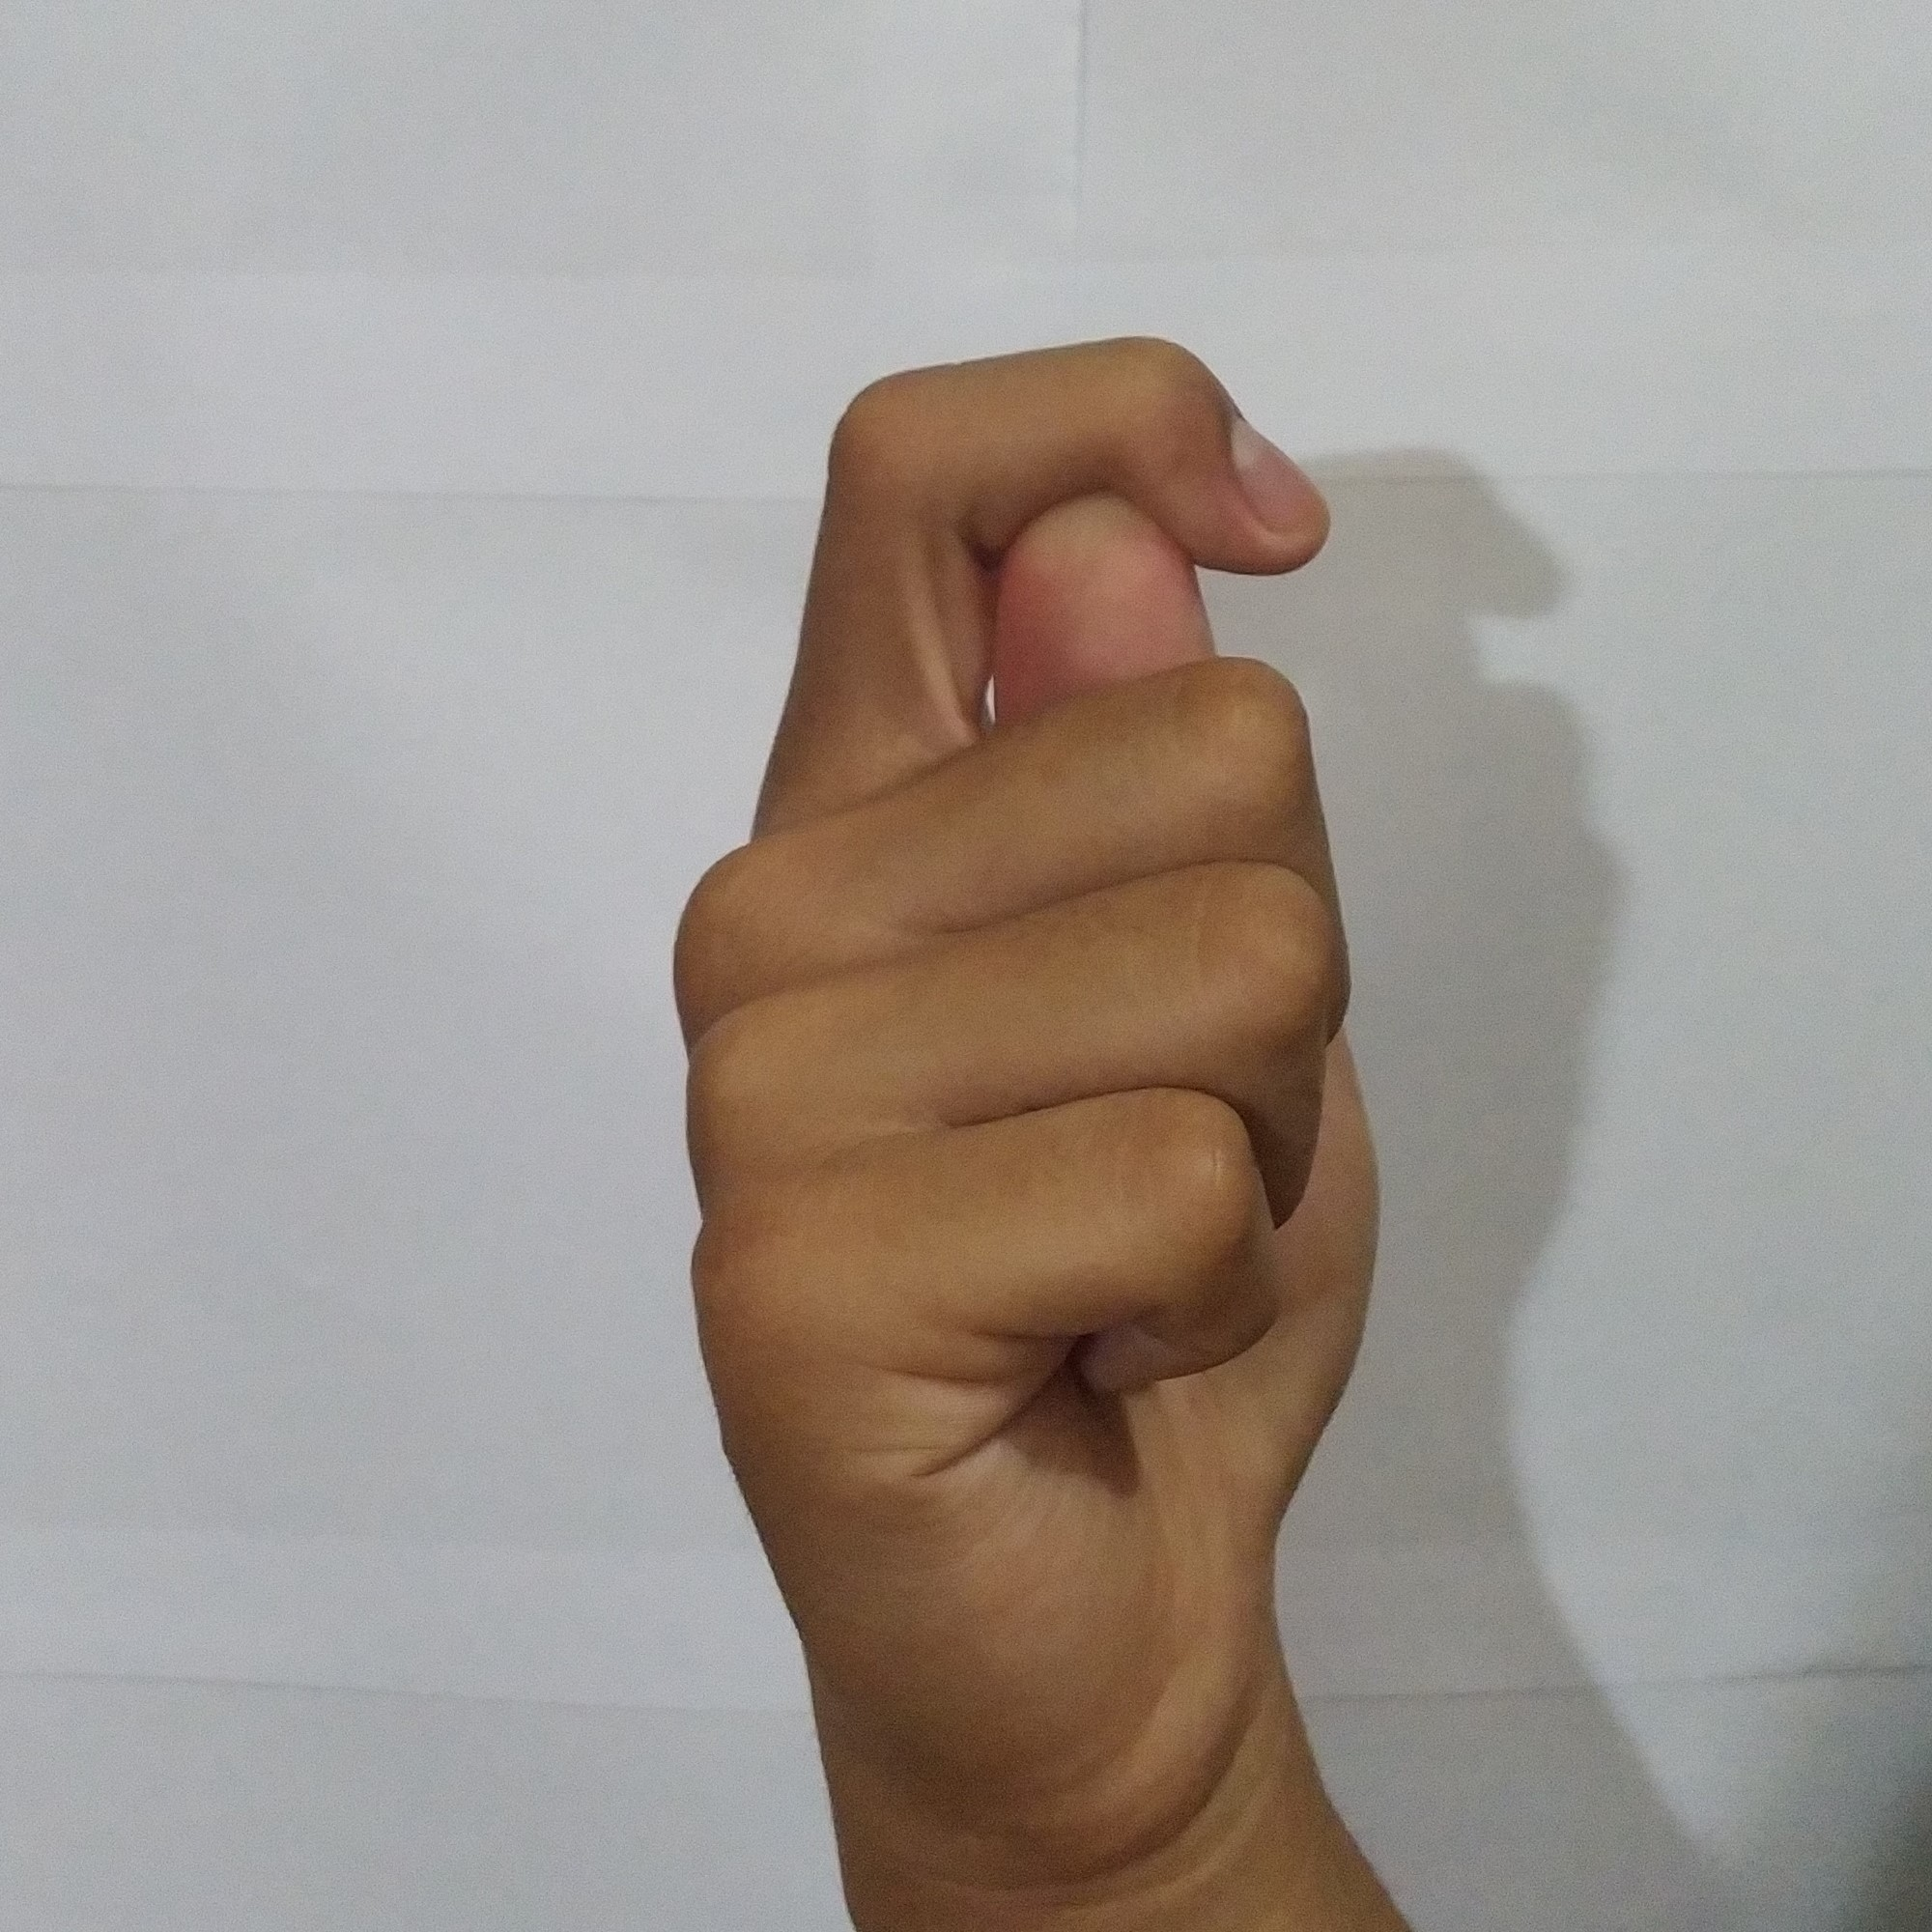T: (626, 285, 1419, 1831)
